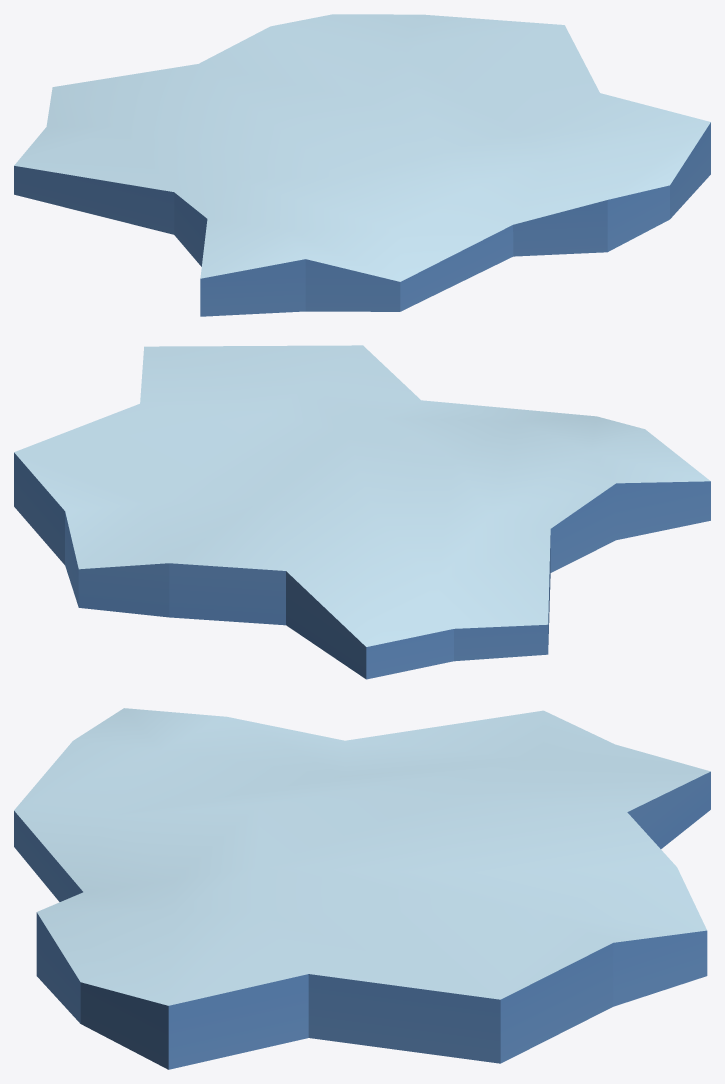
Rendered from SM_IP_Iceblock.fbx.
3 views of the same model, one above another, from view 1: azimuth 30°, elevation 25°; view 2: azimuth 150°, elevation 25°; view 3: azimuth 270°, elevation 25° (orthographic). The views are drawn at different scales.
Parts seen in each view (by area): view 1: Ice_Block; view 2: Ice_Block; view 3: Ice_Block.
Part boxes in pixels (bbox=[...]): Ice_Block: bbox=[14, 14, 710, 316]; Ice_Block: bbox=[14, 345, 710, 679]; Ice_Block: bbox=[14, 708, 710, 1069].
Size of the model in its own units: 1.16 by 0.1208 by 1.05.
